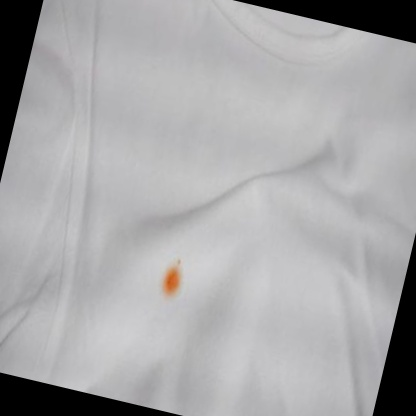kimchi: (157, 252, 193, 303)
